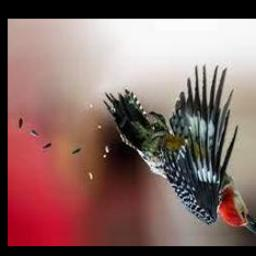Woodpecker: (104, 65, 256, 236)
